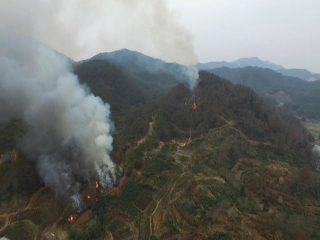smoke: (1, 10, 203, 210)
